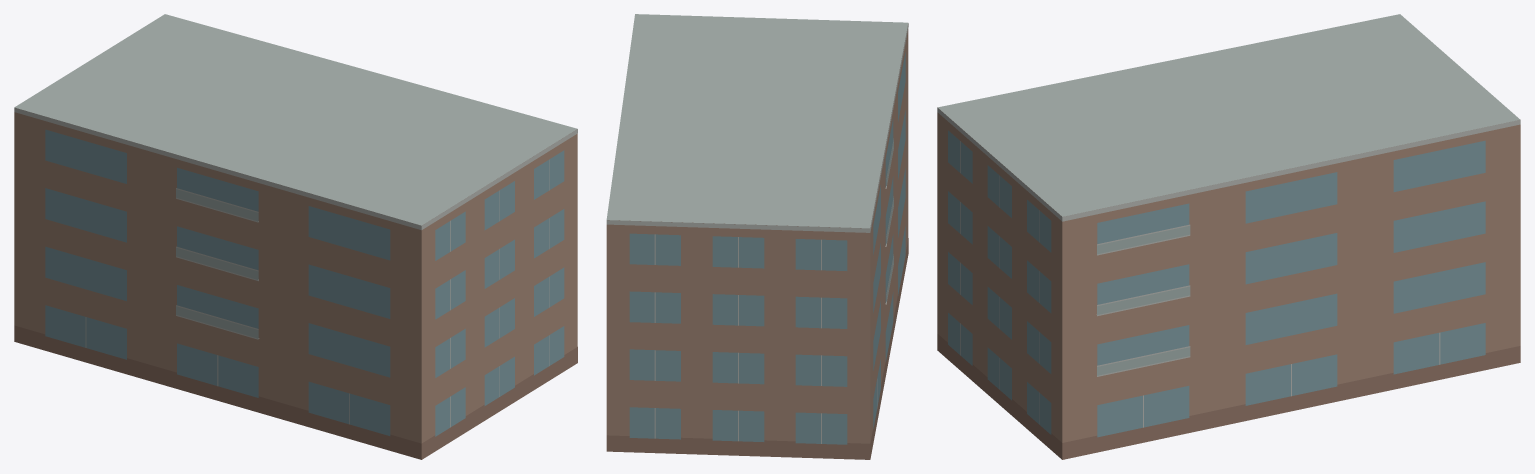
File: survey-upis-32705810.glb
The picture shows the model from 3 angles, left to right: view 1: azimuth 30°, elevation 25°; view 2: azimuth 150°, elevation 25°; view 3: azimuth 270°, elevation 25°; orthographic projection. The views are drawn at different scales.
Visible parts, largest first — view 1: survey-upis-32705810.tmp; view 2: survey-upis-32705810.tmp; view 3: survey-upis-32705810.tmp.
Boxes of the visible parts, x1=… form: survey-upis-32705810.tmp: x1=14, y1=14, x2=577, y2=459; survey-upis-32705810.tmp: x1=606, y1=14, x2=908, y2=459; survey-upis-32705810.tmp: x1=937, y1=14, x2=1520, y2=459.
Bounding box in the file's own units: 22.21 × 12.4 × 26.97.
